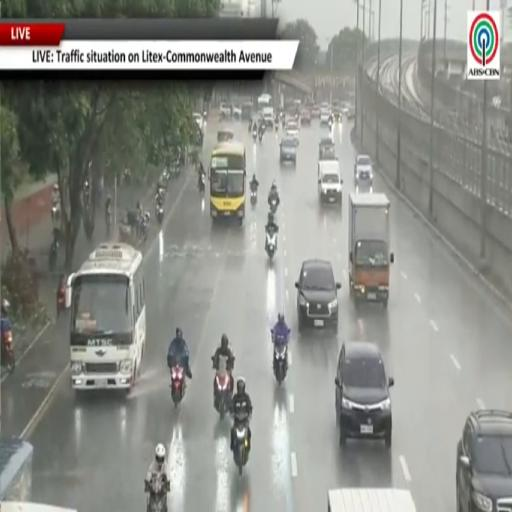bus: (66, 243, 145, 392), (209, 141, 246, 223), (0, 502, 77, 511)
car: (335, 342, 393, 449), (456, 410, 511, 511), (295, 260, 341, 332), (318, 162, 342, 206), (354, 155, 373, 185), (280, 137, 297, 165), (319, 138, 335, 159), (285, 120, 299, 142), (262, 107, 274, 129), (320, 103, 331, 124), (219, 103, 231, 119), (193, 112, 203, 131), (300, 109, 311, 125), (232, 105, 241, 120), (348, 104, 355, 119), (312, 105, 320, 118), (341, 105, 348, 118)
motorcycle: (215, 358, 232, 420), (145, 477, 170, 511), (233, 420, 248, 474), (2, 326, 15, 373), (171, 365, 185, 407), (273, 344, 287, 385), (48, 237, 59, 271), (266, 230, 276, 260), (140, 213, 149, 245), (57, 285, 65, 317), (51, 202, 60, 223), (156, 202, 163, 226), (106, 208, 111, 238), (270, 198, 278, 214), (199, 174, 205, 194), (251, 189, 257, 205), (258, 131, 264, 142), (248, 121, 253, 133), (274, 119, 278, 132), (328, 119, 332, 129), (253, 131, 257, 141), (282, 118, 285, 130), (295, 114, 299, 122)
truck: (349, 194, 394, 307), (328, 488, 416, 511)
